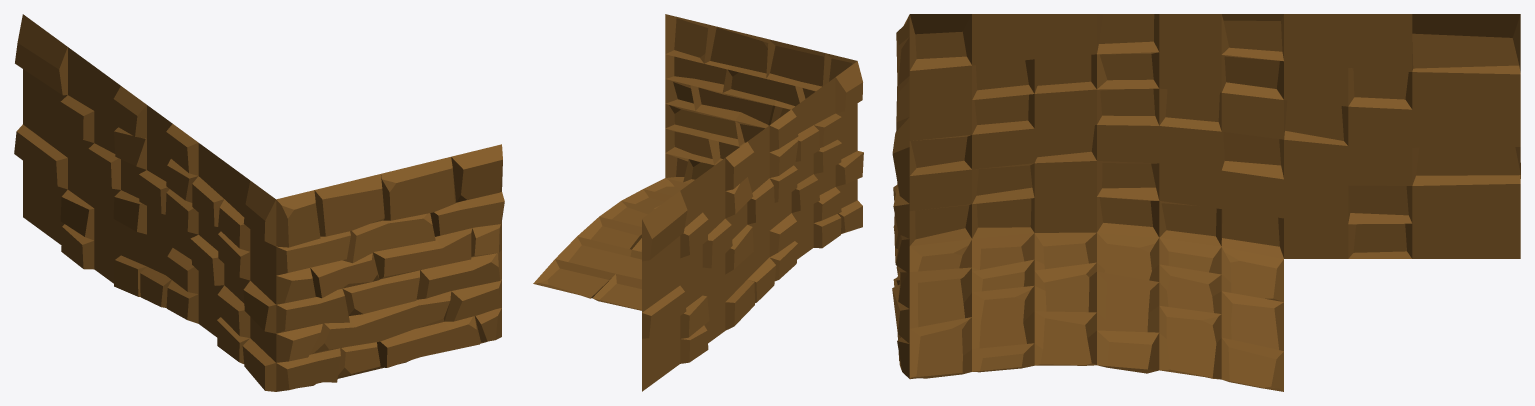
The model's file is Cave_Roof01.fbx.
The picture shows the model from 3 angles, left to right: view 1: azimuth 30°, elevation 25°; view 2: azimuth 150°, elevation 25°; view 3: azimuth 270°, elevation 25°; orthographic projection. The views are drawn at different scales.
Parts seen in each view (by area): view 1: Cave_Roof01.001; view 2: Cave_Roof01.001; view 3: Cave_Roof01.001.
Part boxes in pixels (x1,y1,x2,y2): Cave_Roof01.001: (14,14,504,391); Cave_Roof01.001: (533,14,863,391); Cave_Roof01.001: (892,14,1520,391).
Size of the model in its own units: 2686 by 2269 by 5169.
